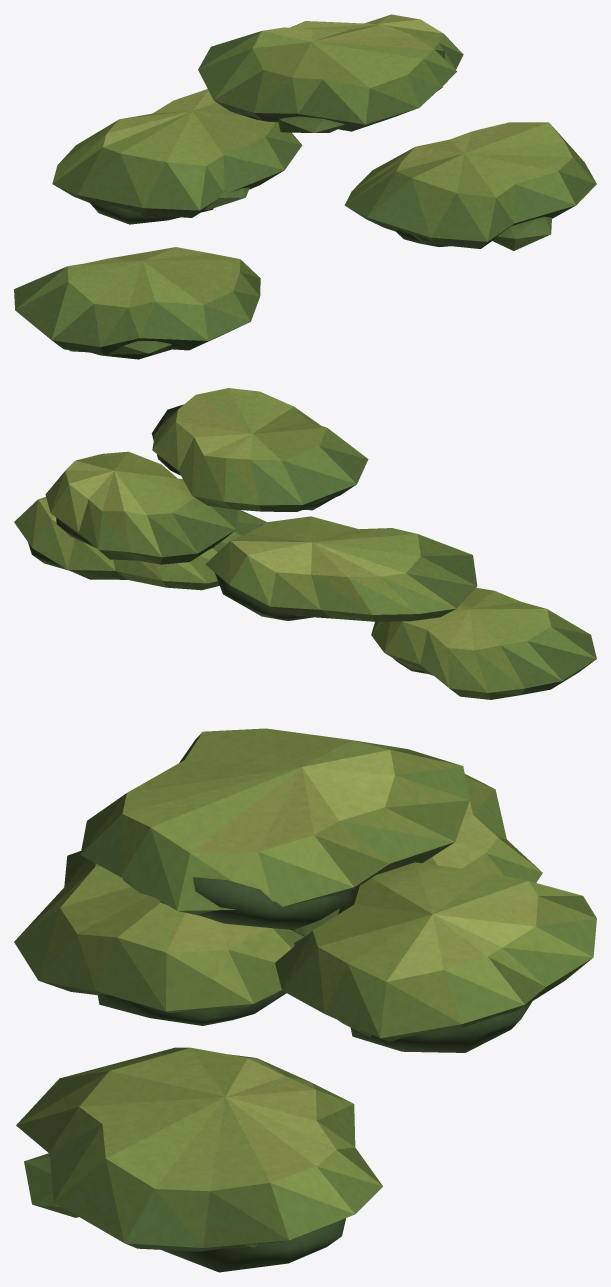
Rendered from Grand_Dojo_Arrival_Pine_Canopy.glb.
3 views of the same model, one above another, from view 1: azimuth 30°, elevation 25°; view 2: azimuth 150°, elevation 25°; view 3: azimuth 270°, elevation 25° (orthographic). The views are drawn at different scales.
Parts seen in each view (by area): view 1: Grand Dojo Arrival Pine Canopy; view 2: Grand Dojo Arrival Pine Canopy; view 3: Grand Dojo Arrival Pine Canopy.
Boxes of the visible parts, x1,y1,x2,y2 form: Grand Dojo Arrival Pine Canopy: [14, 14, 596, 359]; Grand Dojo Arrival Pine Canopy: [14, 388, 596, 699]; Grand Dojo Arrival Pine Canopy: [14, 728, 596, 1272].
Size of the model in its own units: 13.42 by 5.06 by 7.08.
1 material, 1 textured.
